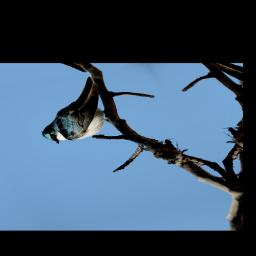Swallow: (9, 75, 134, 146)
